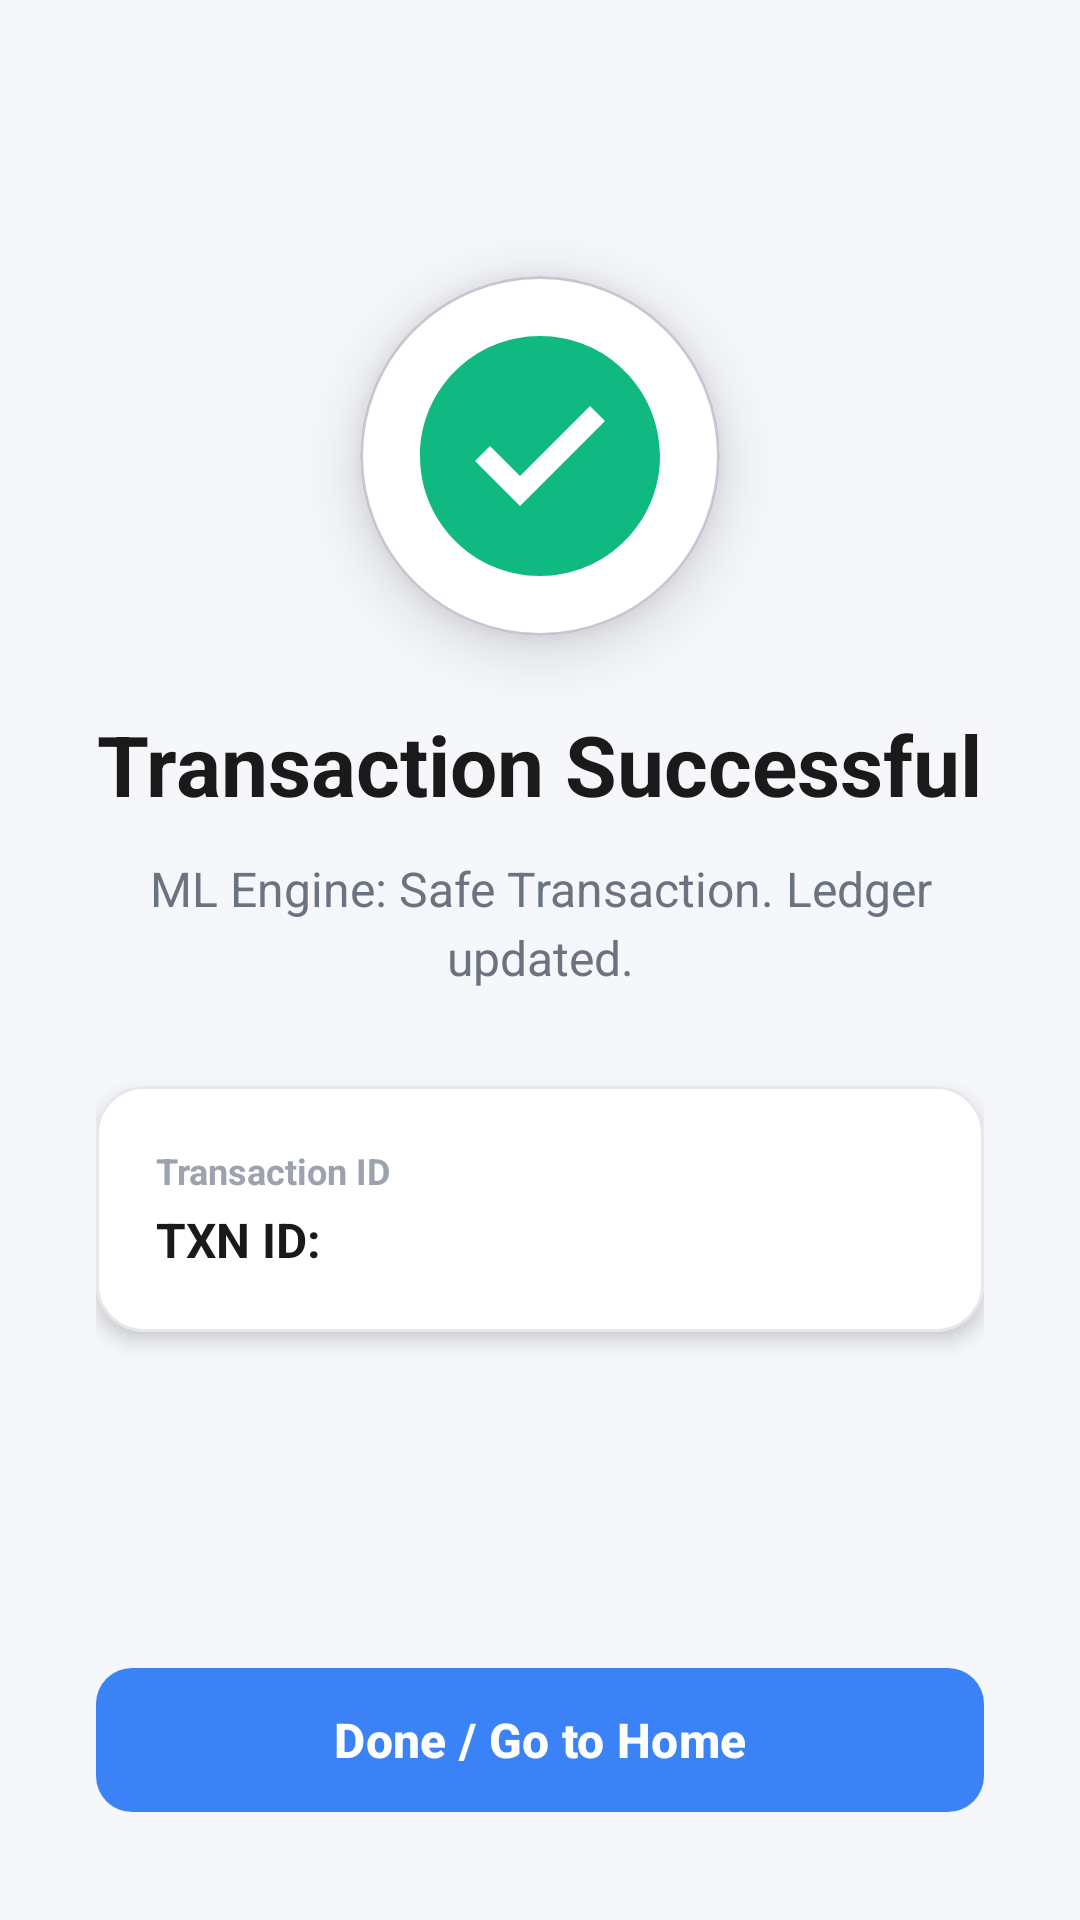

Named icons in this screenshot (1080px x 1920px) and their centers, (x=x, y=y):
Status Icon: (x=540, y=456)
